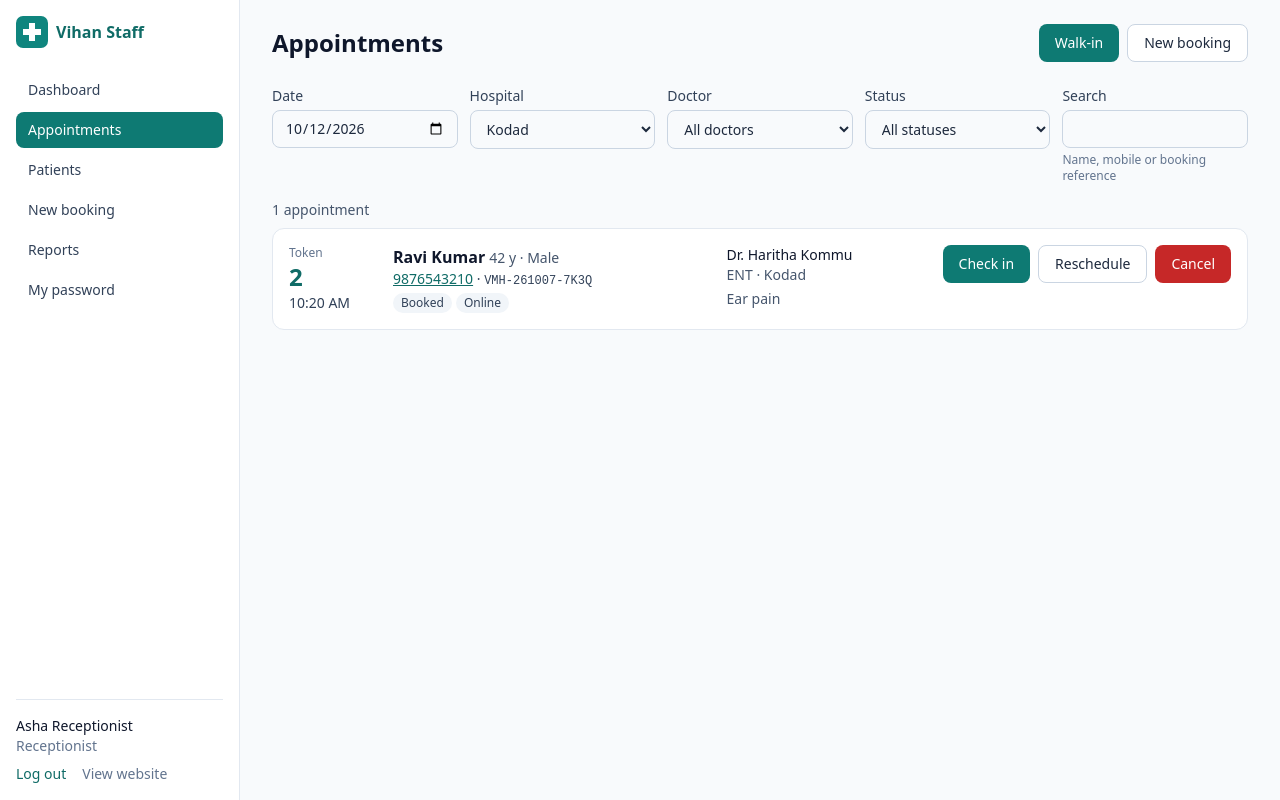
Appointments (reception) › checks a booking in as a suggested registered patient
This screenshot has width=1280, height=800.
Expected: the link "9876543210" is shown, [393,269,473,288]
Click the button "Check in": x=986, y=264 [942,245,1030,283]
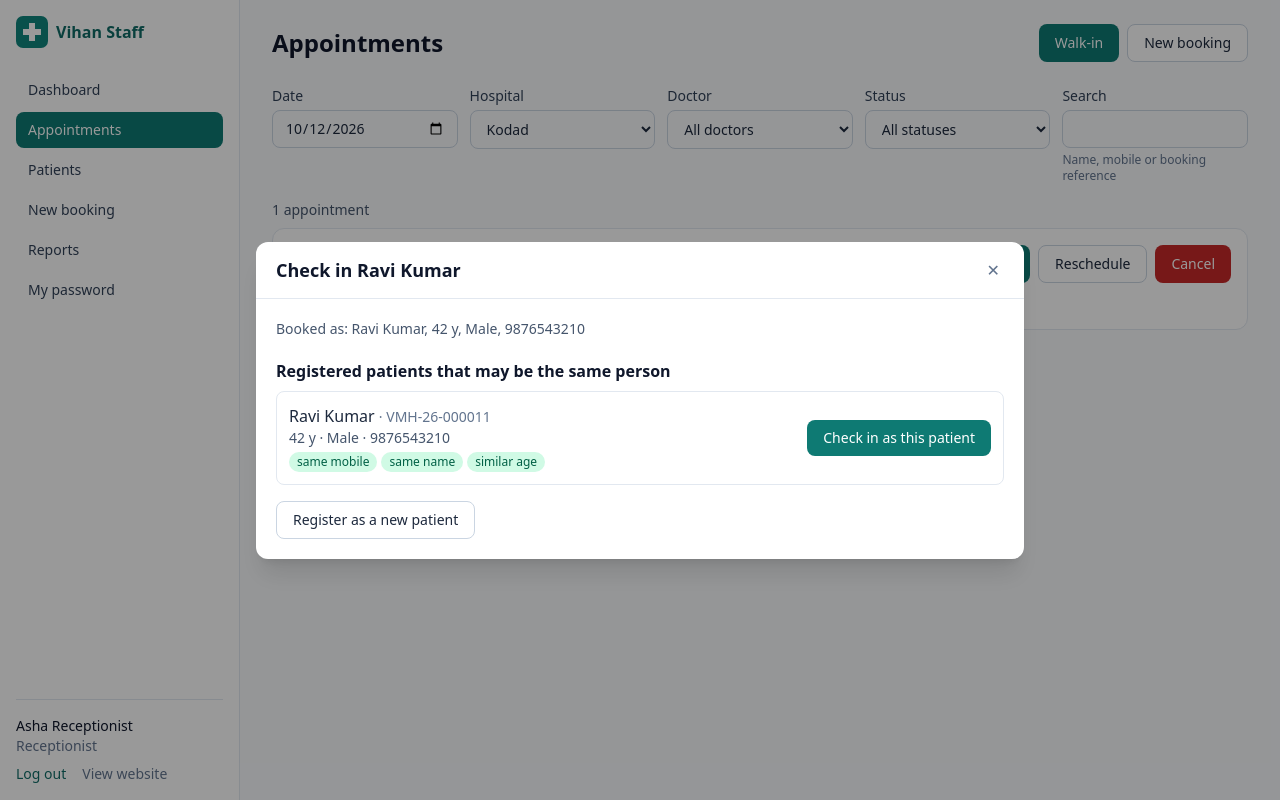
Expected: the text "same mobile" is shown, [289,452,377,472]
Click the button "Check in as this patient": x=899, y=438 [807,420,991,456]
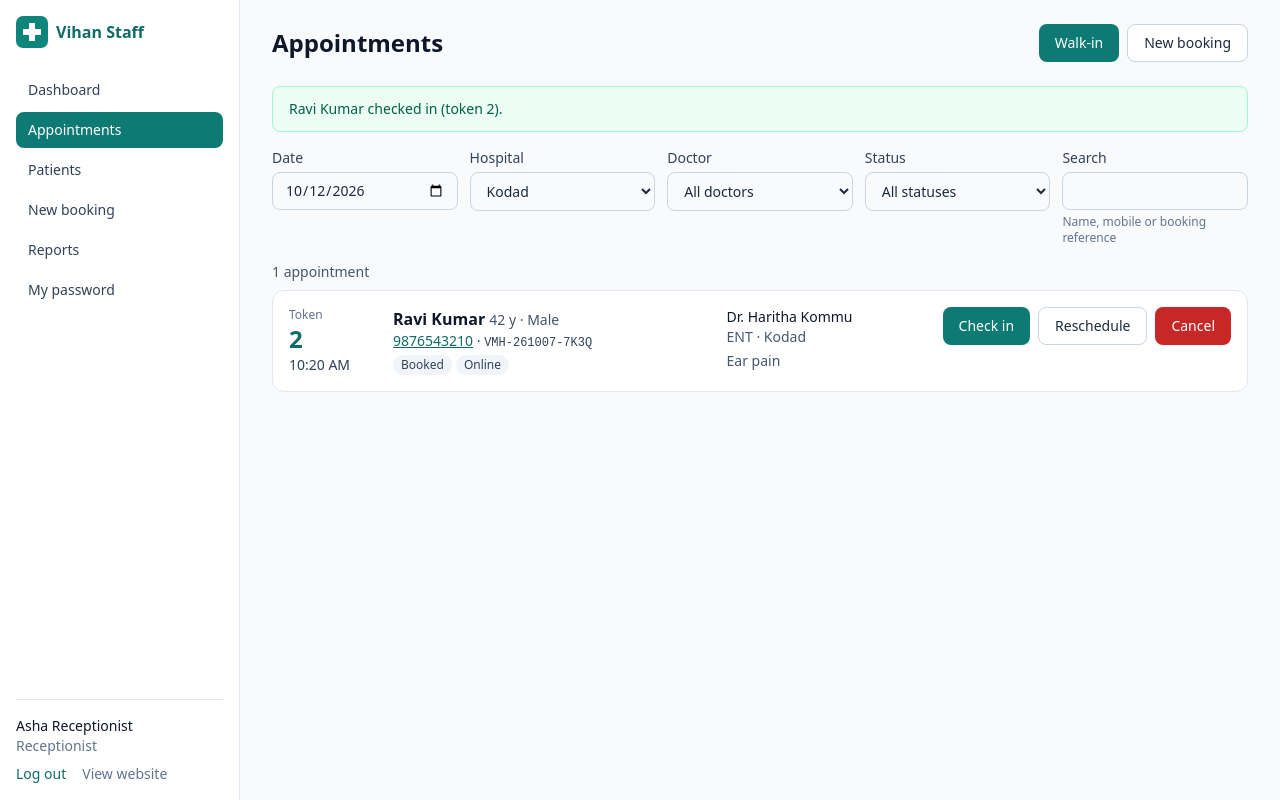
Expected: the text "Ravi Kumar checked in (token 2)." is shown, [272,86,1248,132]
